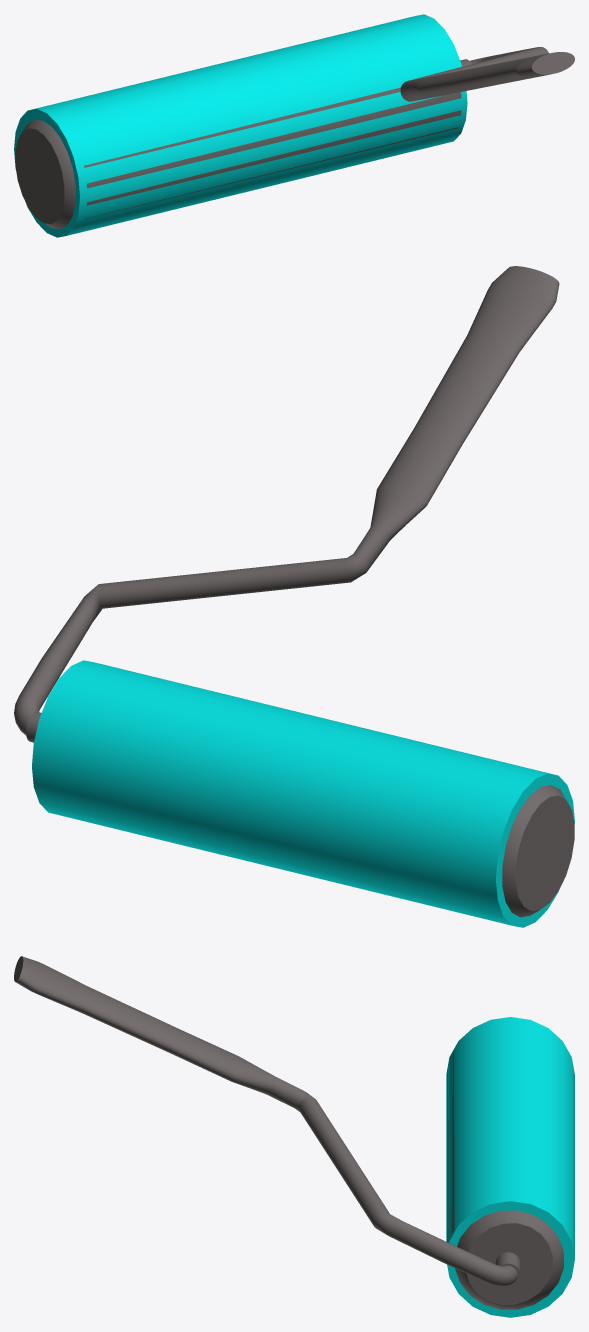
File: PaintRollBlue.fbx
The picture shows the model from 3 angles, top to bottom: view 1: azimuth 30°, elevation 25°; view 2: azimuth 150°, elevation 25°; view 3: azimuth 270°, elevation 25°; orthographic projection. The views are drawn at different scales.
Visible parts, largest first — view 1: pCylinder5, pCylinder4; view 2: pCylinder5, pCylinder4; view 3: pCylinder5, pCylinder4.
Boxes of the visible parts, box(x1,y1,x2,y2) form: pCylinder5: box(14, 14, 467, 237); pCylinder4: box(15, 47, 574, 229); pCylinder5: box(32, 660, 574, 927); pCylinder4: box(14, 266, 574, 917); pCylinder5: box(446, 1017, 574, 1317); pCylinder4: box(14, 956, 563, 1309).
Bounding box in the file's own units: 4.01 × 2.56 × 4.43.
